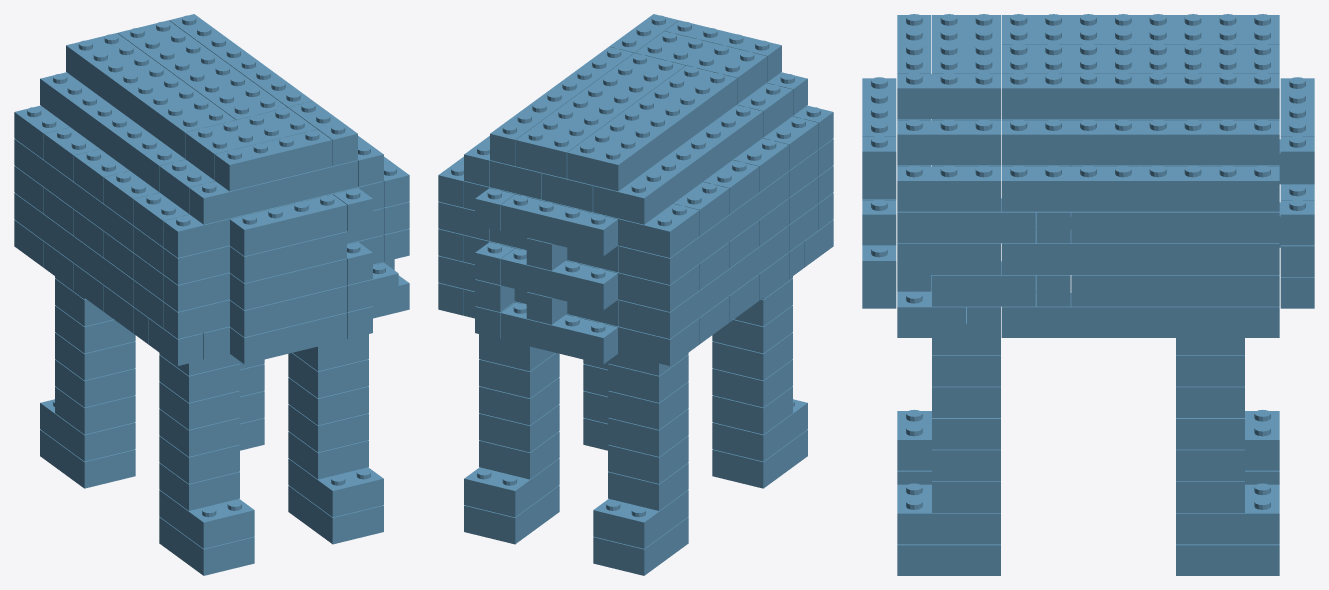
The model's file is 150_car_L5.glb.
3 renders of one model, left to right at view 1: azimuth 30°, elevation 25°; view 2: azimuth 150°, elevation 25°; view 3: azimuth 270°, elevation 25°, orthographic. The views are drawn at different scales.
Bounding box in the file's own units: 8.98 × 15.13 × 12.98.
